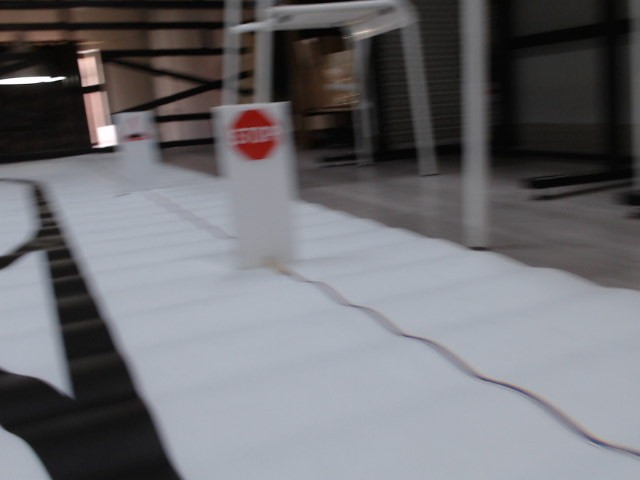Stop: (230, 108, 280, 158)
